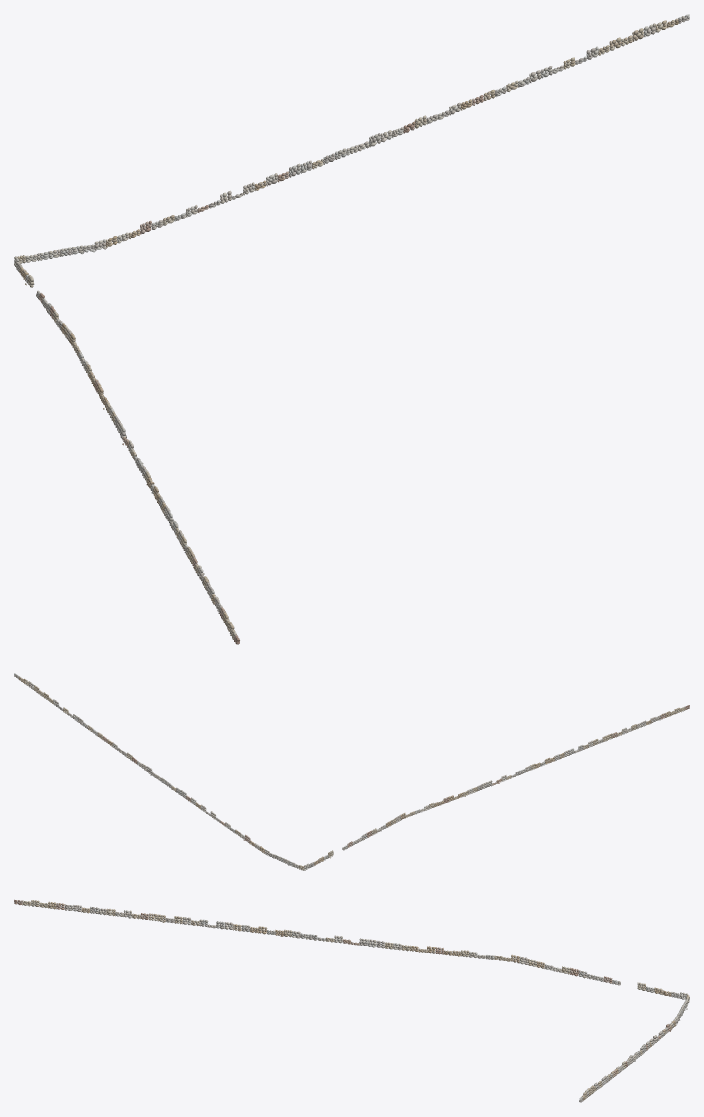
File: farm_-1_15_near.glb
The picture shows the model from 3 angles, top to bottom: view 1: azimuth 30°, elevation 25°; view 2: azimuth 150°, elevation 25°; view 3: azimuth 270°, elevation 25°; orthographic projection. The views are drawn at different scales.
Visible parts, largest first — view 1: geometry_0; view 2: geometry_0; view 3: geometry_0.
Part boxes in pixels (box(x1,y1,x2,y2)): geometry_0: box(14, 14, 689, 644); geometry_0: box(14, 673, 689, 870); geometry_0: box(14, 899, 689, 1102).
Size of the model in its own units: 129 by 23.21 by 123.
